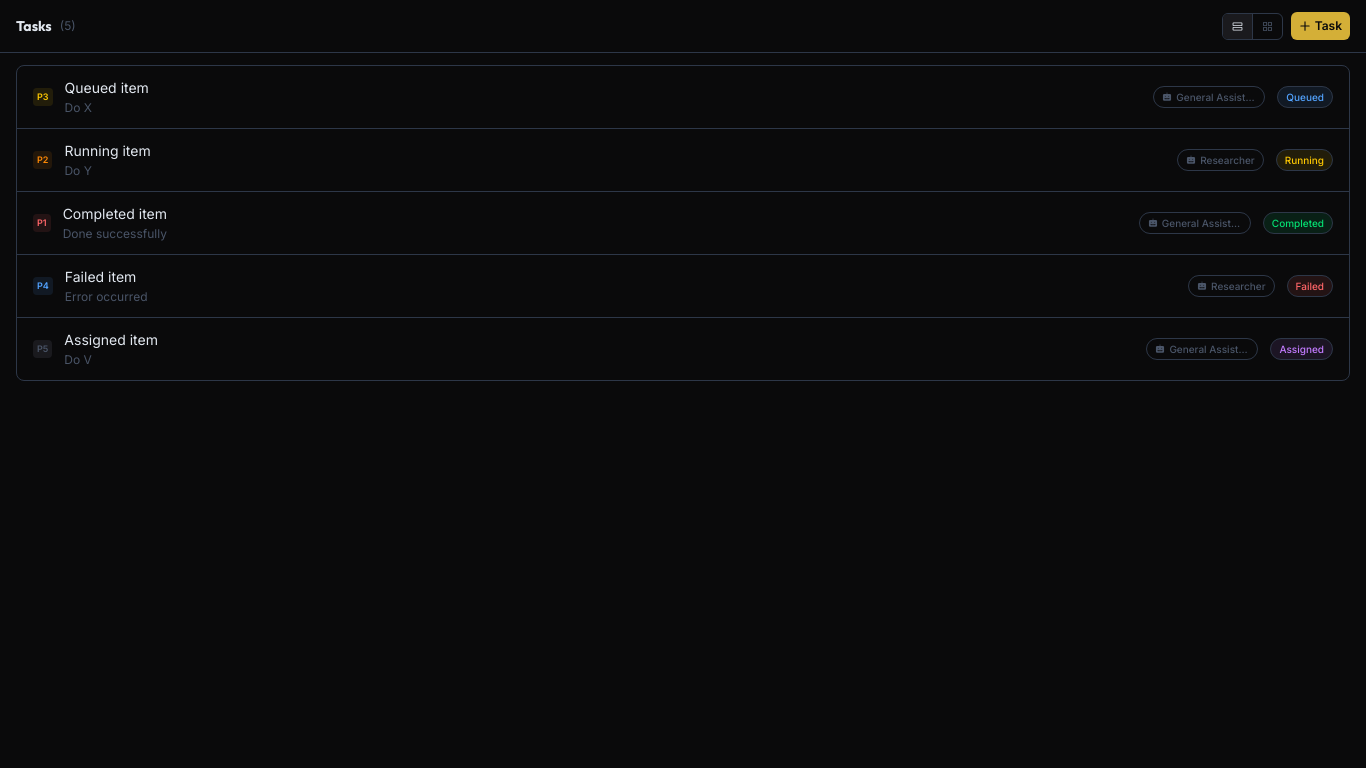
Scenario: TaskList — create task (test #15) › shows inline create form when Task button is clicked
Expected: the text "Queued item" is shown, [64, 79, 149, 96]
Click the button "Task" at coordinates (1320, 26), box [1291, 12, 1350, 40]
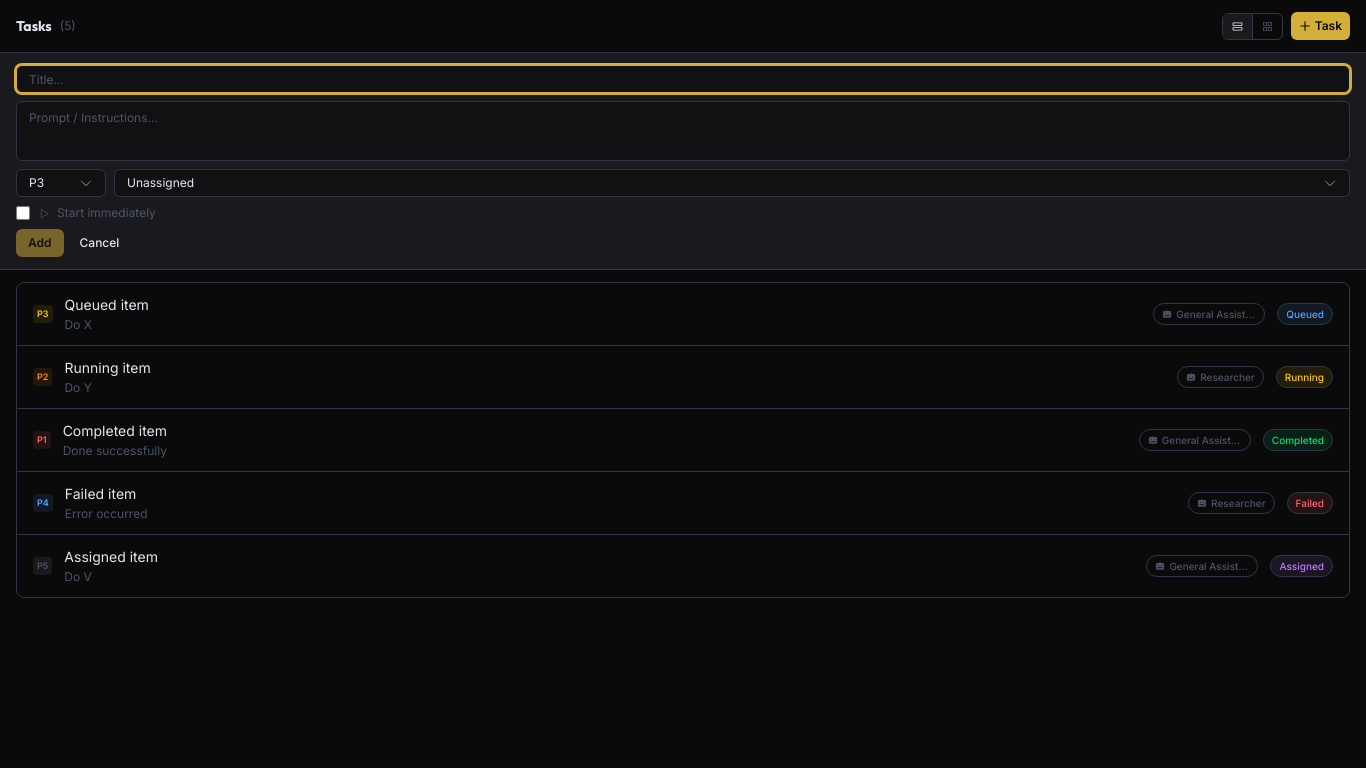
Now the field with placeholder "Title..." is shown, box [16, 65, 1350, 93]
